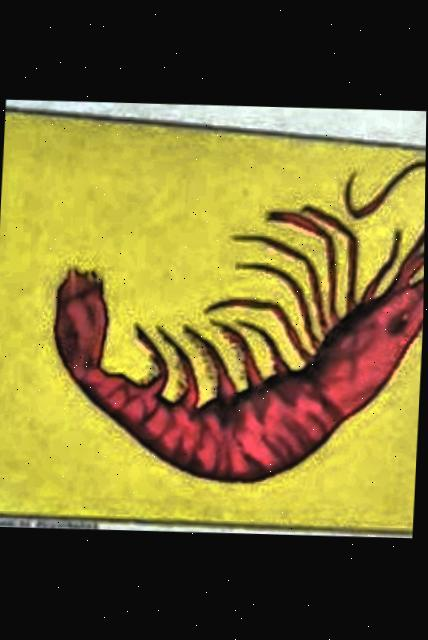El Camaron: (0, 114, 426, 531)
